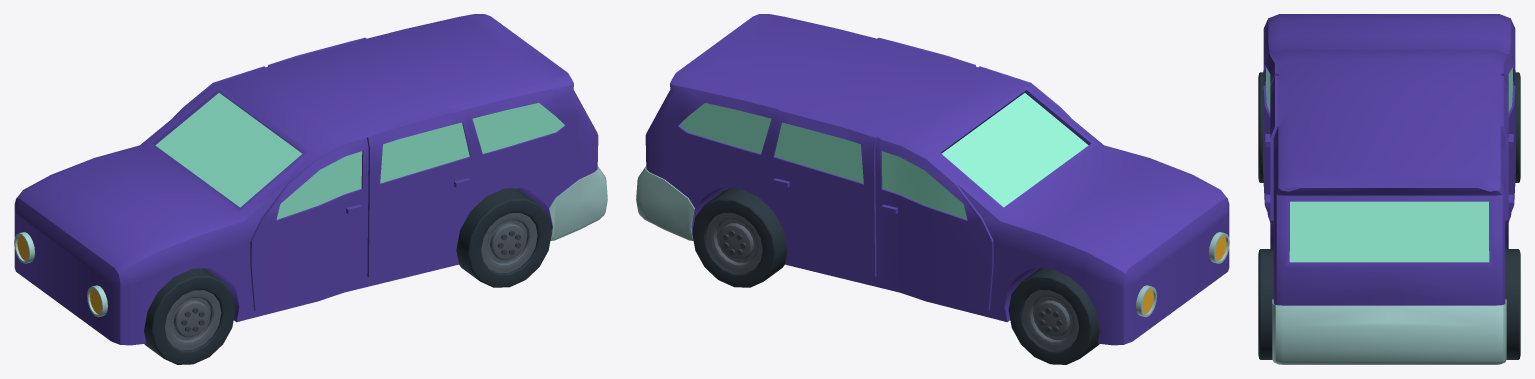
The model's file is SUVBlue.fbx.
3 views of the same model, side by side, from view 1: azimuth 30°, elevation 25°; view 2: azimuth 150°, elevation 25°; view 3: azimuth 270°, elevation 25° (orthographic). The views are drawn at different scales.
Visible parts, largest first — view 1: SUV.001, Wheels.001; view 2: SUV.001, Wheels.001; view 3: SUV.001, Wheels.001.
Part boxes in pixels (box(x1,y1,x2,y2)): SUV.001: box(14, 14, 607, 345); Wheels.001: box(144, 188, 551, 364); SUV.001: box(636, 14, 1229, 345); Wheels.001: box(692, 188, 1099, 364); SUV.001: box(1263, 14, 1515, 364); Wheels.001: box(1258, 72, 1520, 359).
Bounding box in the file's own units: 471 × 166 × 186.
